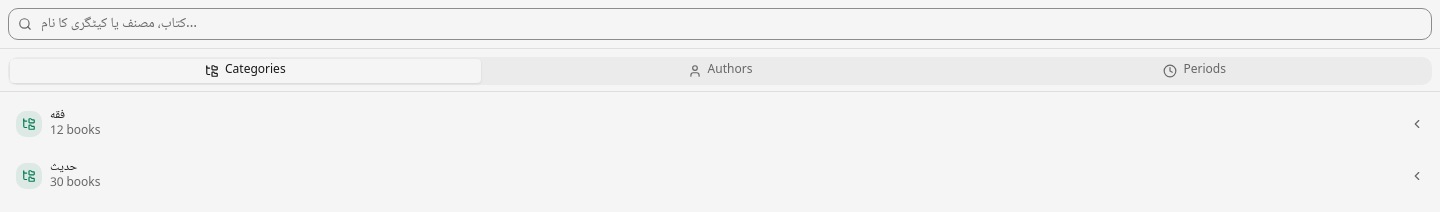
BrowseTab — catalogue browsing state machine › once connected › switches to authors and lists them unfiltered
Expected: the text "فقه" is shown, top-left (50, 105), bottom-right (65, 126)
Click the button "Authors" at (720, 71), box top-left (485, 59), bottom-right (955, 83)
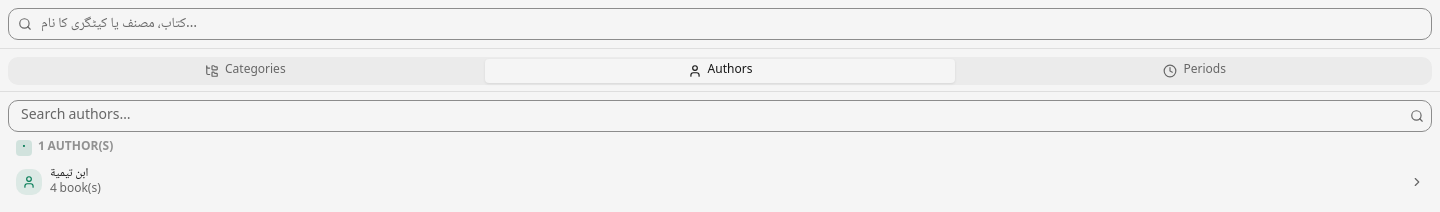
Result: the text "ابن تيمية" is shown at top-left (50, 163), bottom-right (88, 184)
